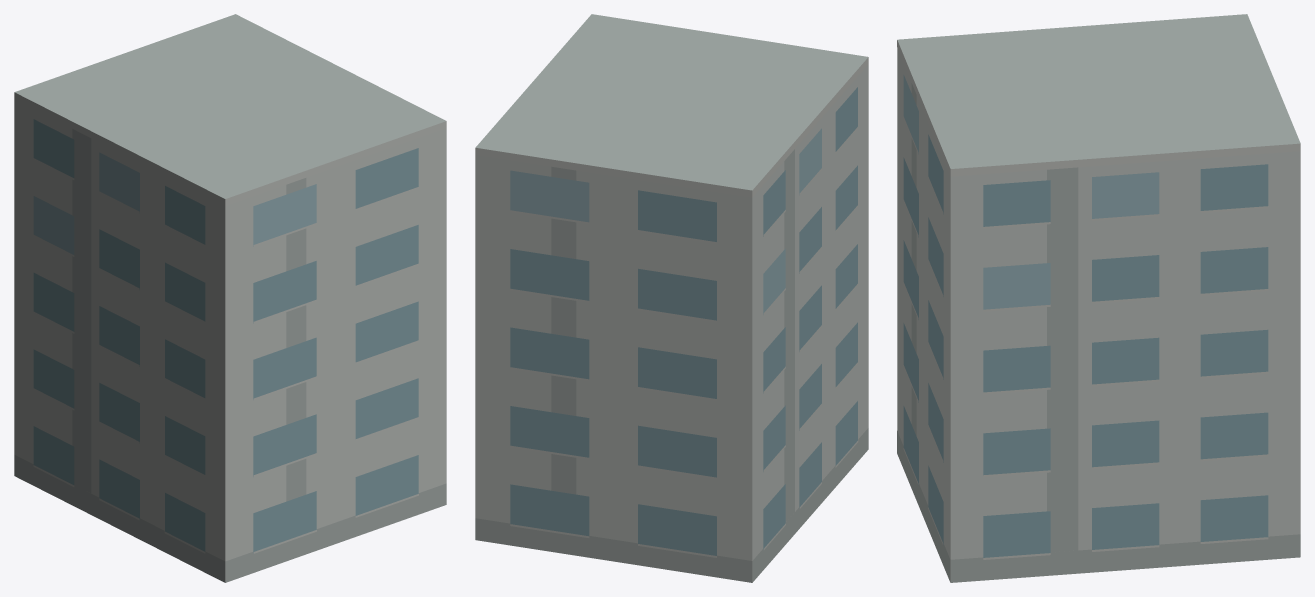
The model's file is survey-upis-32687699.glb.
The picture shows the model from 3 angles, left to right: view 1: azimuth 30°, elevation 25°; view 2: azimuth 150°, elevation 25°; view 3: azimuth 270°, elevation 25°; orthographic projection. The views are drawn at different scales.
Parts seen in each view (by area): view 1: survey-upis-32687699.tmp; view 2: survey-upis-32687699.tmp; view 3: survey-upis-32687699.tmp.
Boxes of the visible parts, x1,y1,x2,y2 form: survey-upis-32687699.tmp: [14, 14, 446, 582]; survey-upis-32687699.tmp: [475, 14, 868, 582]; survey-upis-32687699.tmp: [897, 14, 1300, 582].
Bounding box in the file's own units: 10.62 × 13.2 × 11.68.
